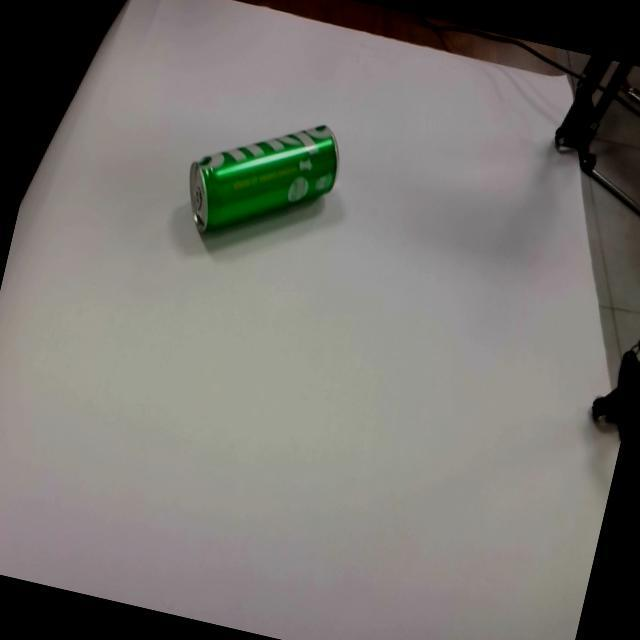debris: (173, 94, 347, 260)
